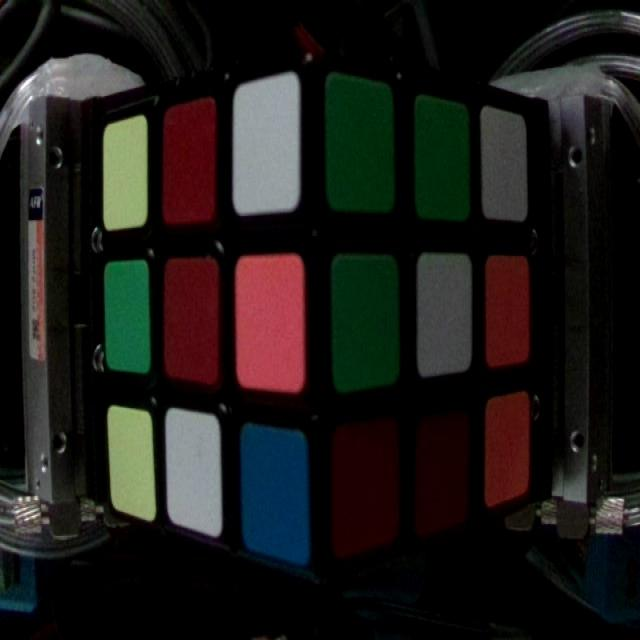b: (240, 426, 309, 560)
g: (329, 74, 396, 214), (330, 256, 398, 382), (417, 95, 466, 218), (103, 261, 154, 376)
o: (236, 250, 308, 398), (486, 393, 530, 502), (488, 255, 531, 364)
r: (329, 422, 393, 550), (164, 103, 218, 224), (166, 258, 216, 384), (417, 414, 467, 529)
w: (231, 77, 298, 206), (417, 252, 471, 376), (167, 411, 222, 531), (481, 110, 529, 225)
y: (105, 414, 153, 520), (100, 120, 146, 228)
